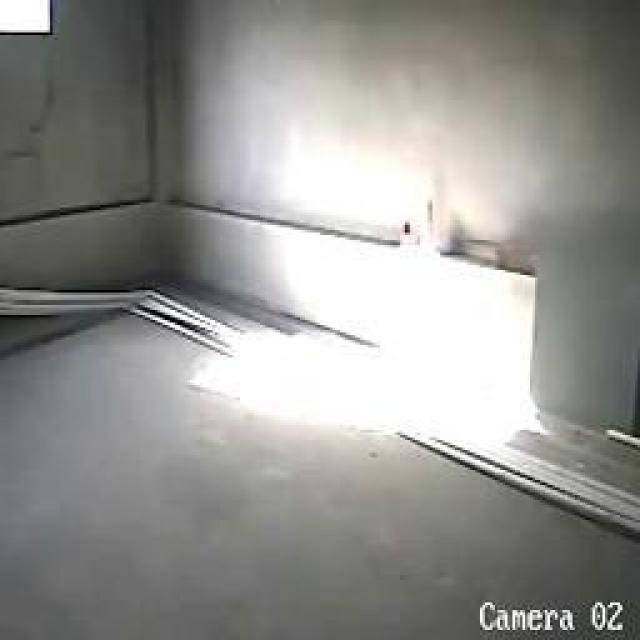other: (231, 134, 546, 442)
